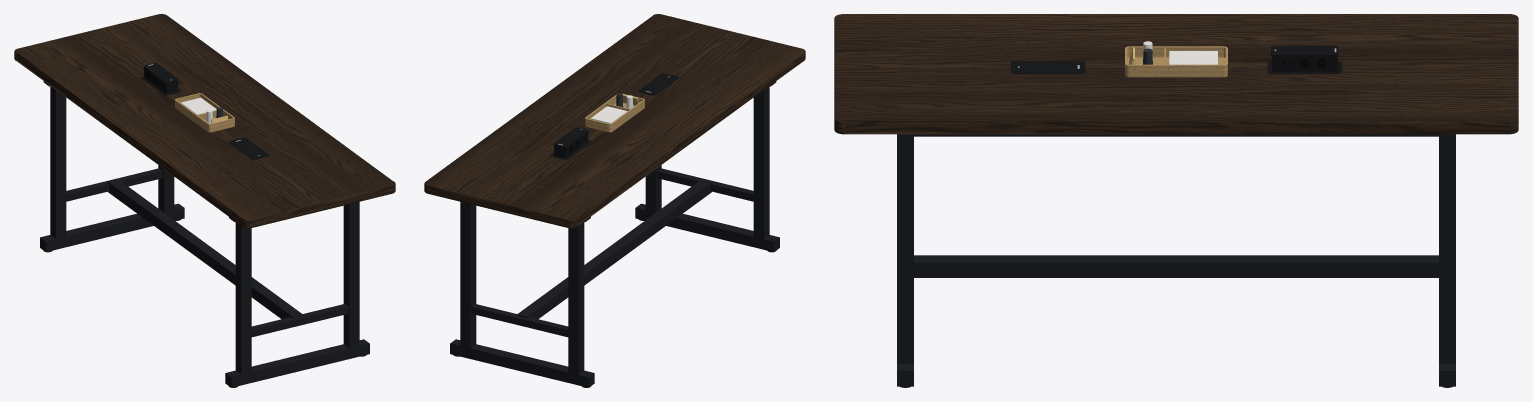
The model's file is Office_Pantry_Bar_Island.glb.
3 renders of one model, left to right at view 1: azimuth 30°, elevation 25°; view 2: azimuth 150°, elevation 25°; view 3: azimuth 270°, elevation 25°, orthographic. The views are drawn at different scales.
Parts seen in each view (by area): view 1: Top_Walnut_50mm, Footrest_Stretcher, Trestle_S_Post_W, Trestle_N_Post_W, Trestle_S_Post_E, Trestle_S_Foot, Trestle_N_Foot, Trestle_S_Cross, Trestle_N_Cross, Tray_Rim, Trestle_N_Post_E, Hub1_Lid (+3 smaller); view 2: Top_Walnut_50mm, Footrest_Stretcher, Trestle_N_Post_W, Trestle_S_Post_W, Trestle_N_Post_E, Trestle_N_Foot, Trestle_S_Foot, Trestle_N_Cross, Trestle_S_Cross, Tray_Rim, Trestle_S_Post_E, Napkin_4 (+3 smaller); view 3: Top_Walnut_50mm, Footrest_Stretcher, Trestle_N_Post_E, Trestle_S_Post_E, Tray_Rim, Top_Rail_E, Hub1_Column, Hub1_Lid, Napkin_4, Hub2_Lid.
Boxes of the visible parts, x1,y1,x2,y2 form: Top_Walnut_50mm: (14,14,395,228); Footrest_Stretcher: (107,178,302,319); Trestle_S_Post_W: (235,222,251,374); Trestle_N_Post_W: (50,86,66,238); Trestle_S_Post_E: (343,202,359,348); Trestle_S_Foot: (225,339,369,387); Trestle_N_Foot: (40,203,184,251); Trestle_S_Cross: (251,304,348,337); Trestle_N_Cross: (66,168,163,201); Tray_Rim: (175,93,234,132); Trestle_N_Post_E: (158,165,174,212); Hub1_Lid: (143,63,178,83); Top_Walnut_50mm: (424,14,805,228); Footrest_Stretcher: (517,178,712,319); Trestle_N_Post_W: (568,222,584,374); Trestle_S_Post_W: (753,86,769,238); Trestle_N_Post_E: (460,202,476,348); Trestle_N_Foot: (450,339,594,387); Trestle_S_Foot: (635,203,779,251); Trestle_N_Cross: (471,304,568,337); Trestle_S_Cross: (656,168,753,201); Tray_Rim: (585,93,644,132); Trestle_S_Post_E: (645,165,661,212); Napkin_4: (590,106,627,123); Top_Walnut_50mm: (834,14,1518,134); Footrest_Stretcher: (914,255,1438,277); Trestle_N_Post_E: (1439,143,1455,363); Trestle_S_Post_E: (897,143,913,363); Tray_Rim: (1125,46,1227,77); Top_Rail_E: (914,134,1438,136); Hub1_Column: (1272,56,1337,71); Hub1_Lid: (1271,45,1338,56); Napkin_4: (1169,51,1217,64); Hub2_Lid: (1014,62,1081,71).
Bounding box in the file's own units: 0.9 × 1.13 × 2.4.
12 materials, 2 textured.
